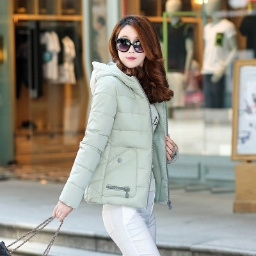face: (108, 15, 196, 106)
